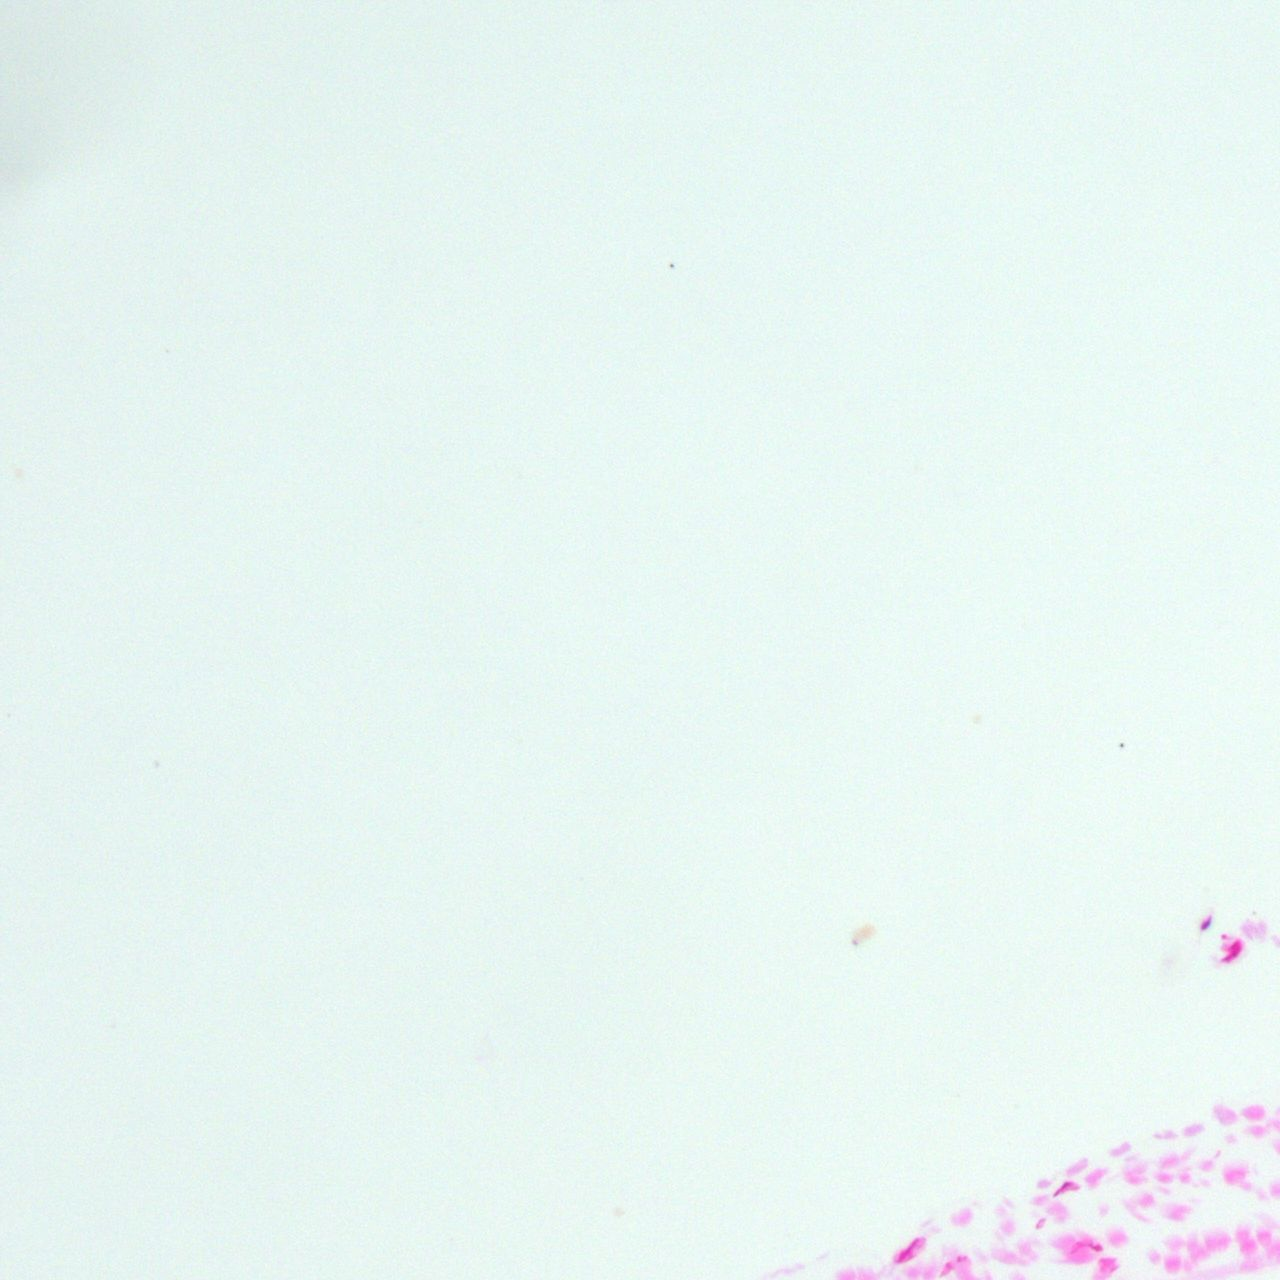dust: (668, 263, 675, 268), (1119, 743, 1124, 748)
nucleus-FG: (897, 1237, 919, 1264), (1220, 946, 1242, 966), (1197, 914, 1213, 933), (1053, 1180, 1069, 1198)
